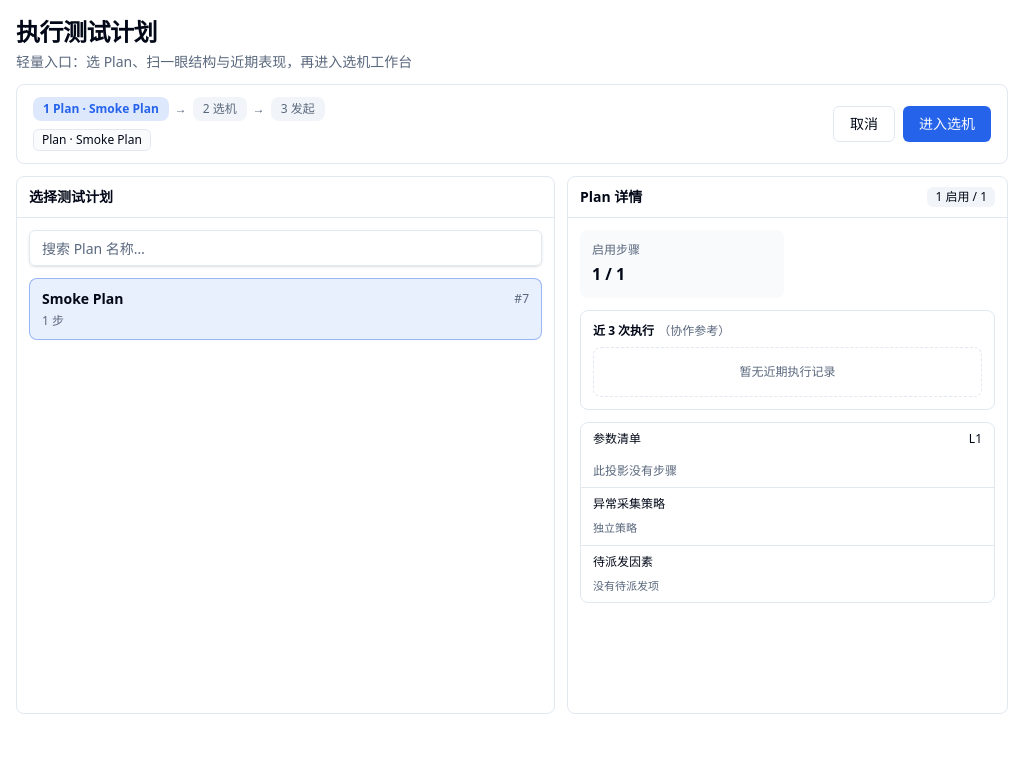
Test: PlanExecutePage › admits devices by status: only ONLINE is selectable（#786）
Expected: the text "启用步骤" is shown, [592,241,640,258]
Click the button "进入选机" at (947, 124), box [903,106,991,142]
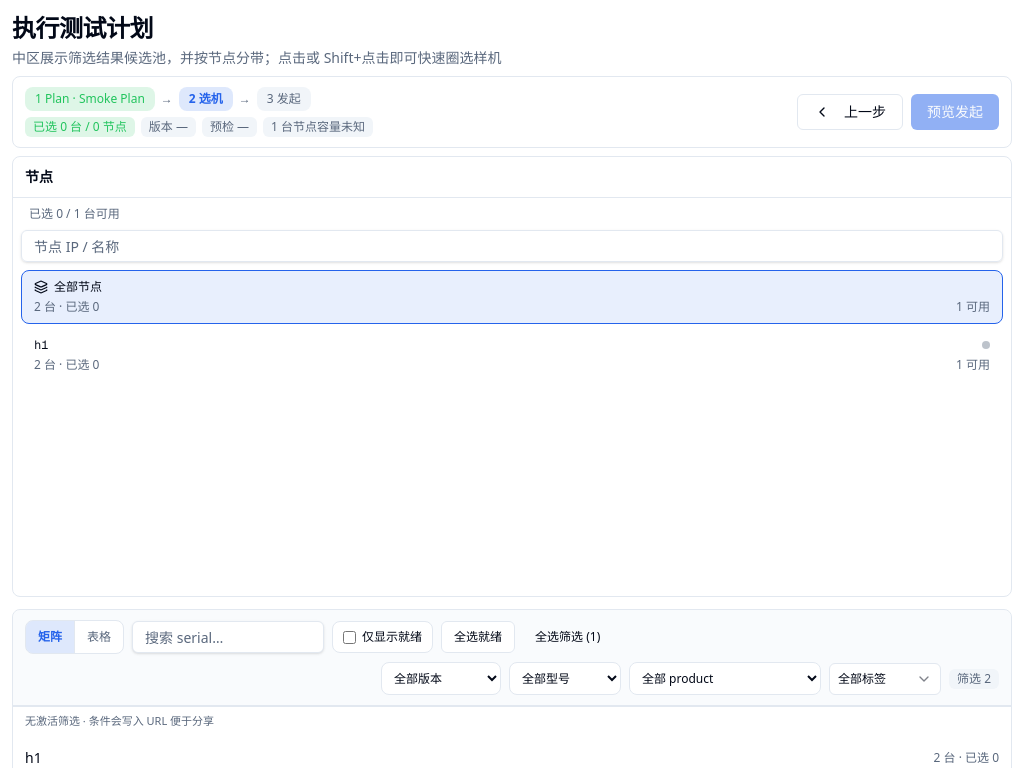
Click the button "表格" at (98, 637), box [74,621,123,653]
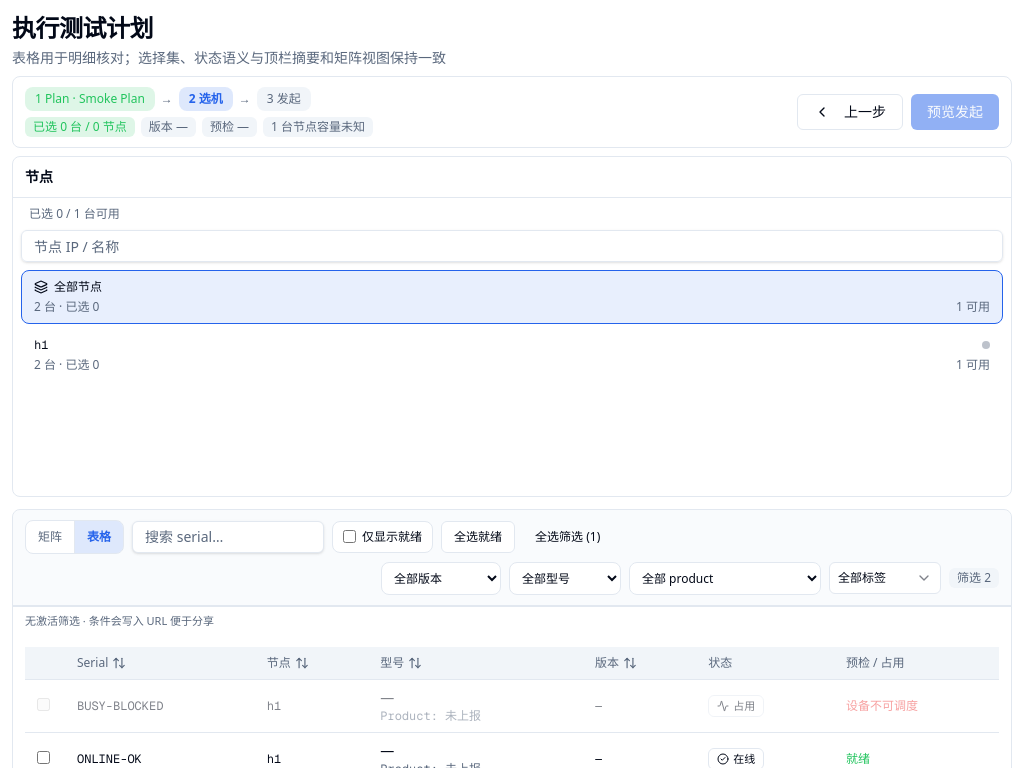
Now the text "已选 0 / 1 台可用" is shown, box [29,205,120,222]
Now the checkbox named "ONLINE-OK" is enabled, box [37,751,50,764]
